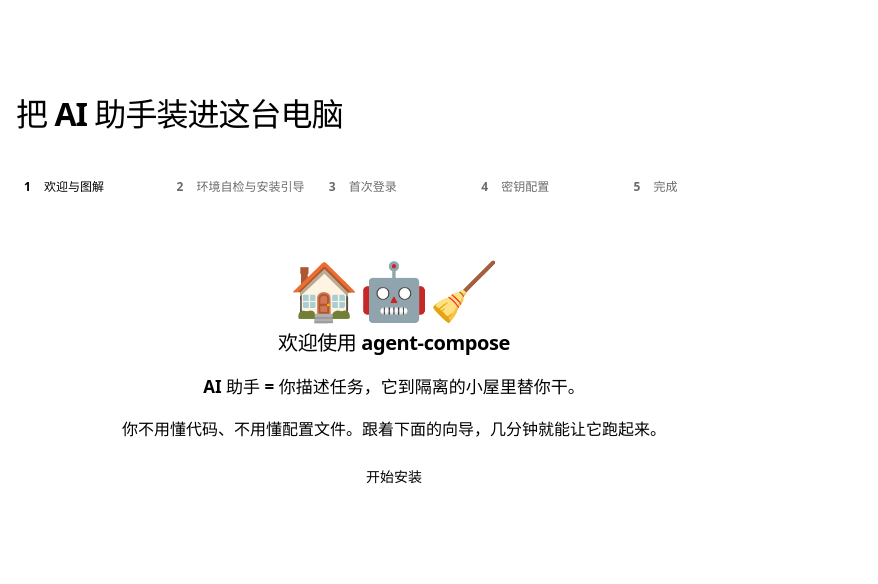
Scenario: SetupShell › 第 1 步显示「← 上一步」，点击回到欢迎屏
This screenshot has width=878, height=584.
What coordinates should you click on to do the following:
click the button "开始安装"
I would click on:
 (394, 477)
Its box is [352,459,436,495].
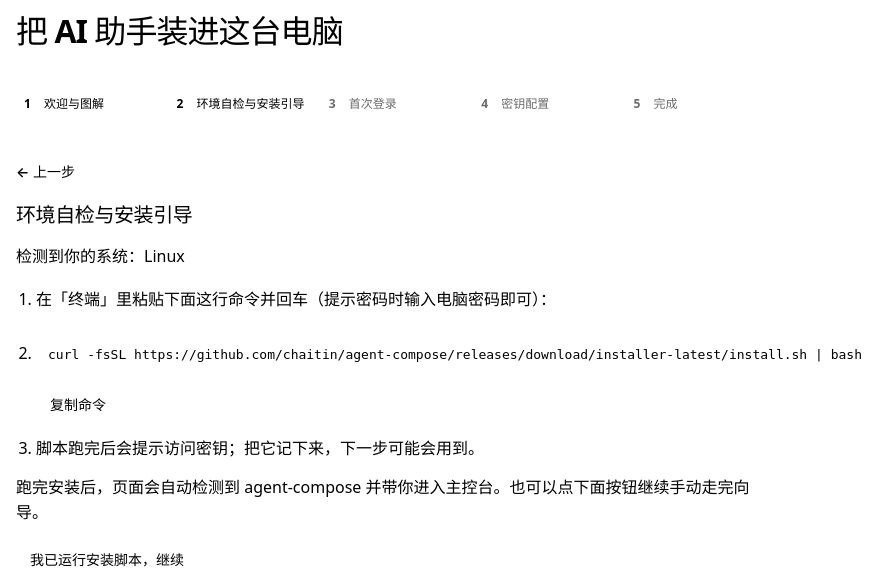
What coordinates should you click on to do the following:
click the button "← 上一步"
I would click on:
 (46, 171)
Its box is [16,155,75,187].
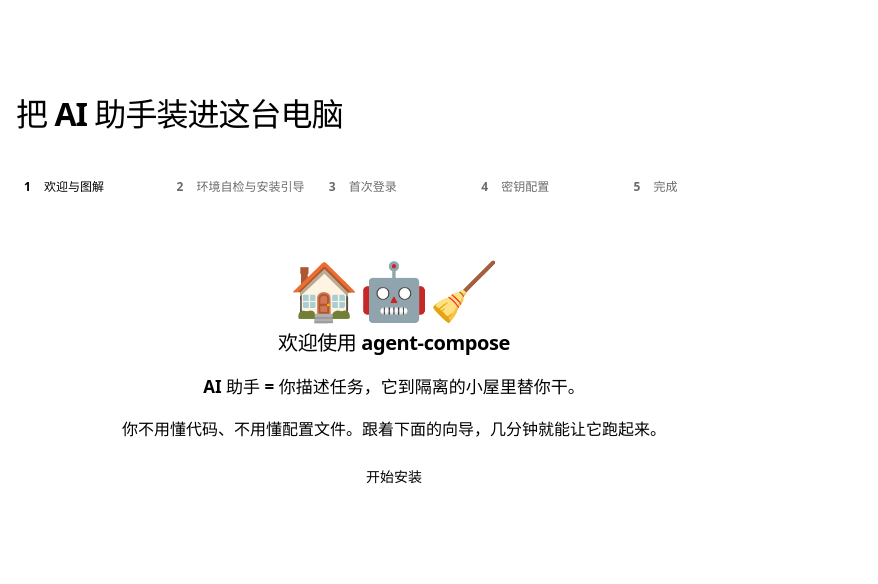
expect the heading "欢迎使用 agent-compose" is shown: met, box [278,329,510,356]
